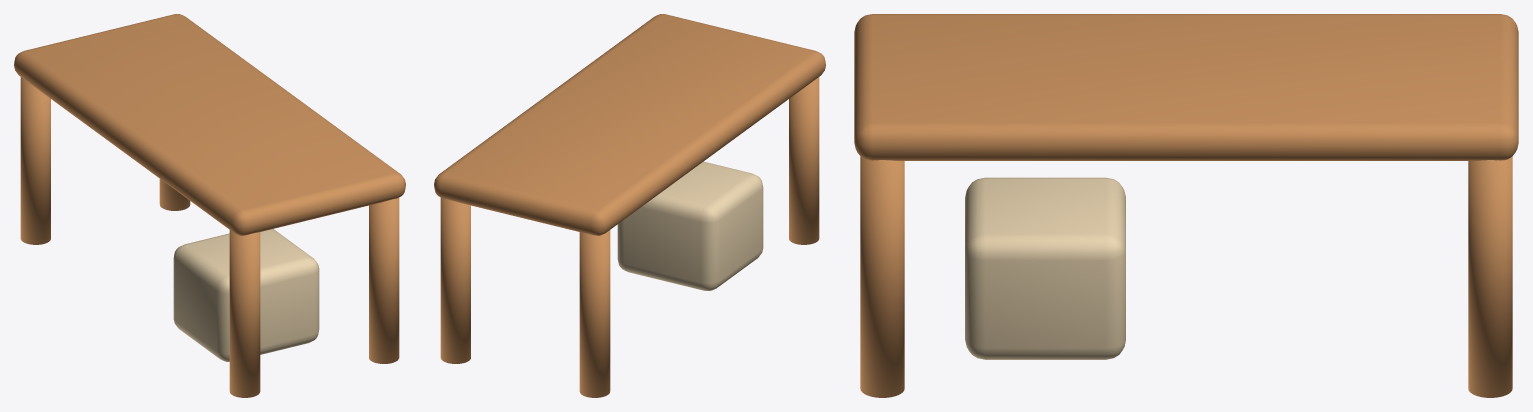
The model's file is desk.glb.
3 views of the same model, side by side, from view 1: azimuth 30°, elevation 25°; view 2: azimuth 150°, elevation 25°; view 3: azimuth 270°, elevation 25° (orthographic). The views are drawn at different scales.
Parts seen in each view (by area): view 1: desk; view 2: desk; view 3: desk.
Boxes of the visible parts, x1,y1,x2,y2 form: desk: (14,14,405,397); desk: (434,14,825,397); desk: (854,14,1518,397).
Size of the model in its own units: 0.72 by 0.74 by 1.65.
